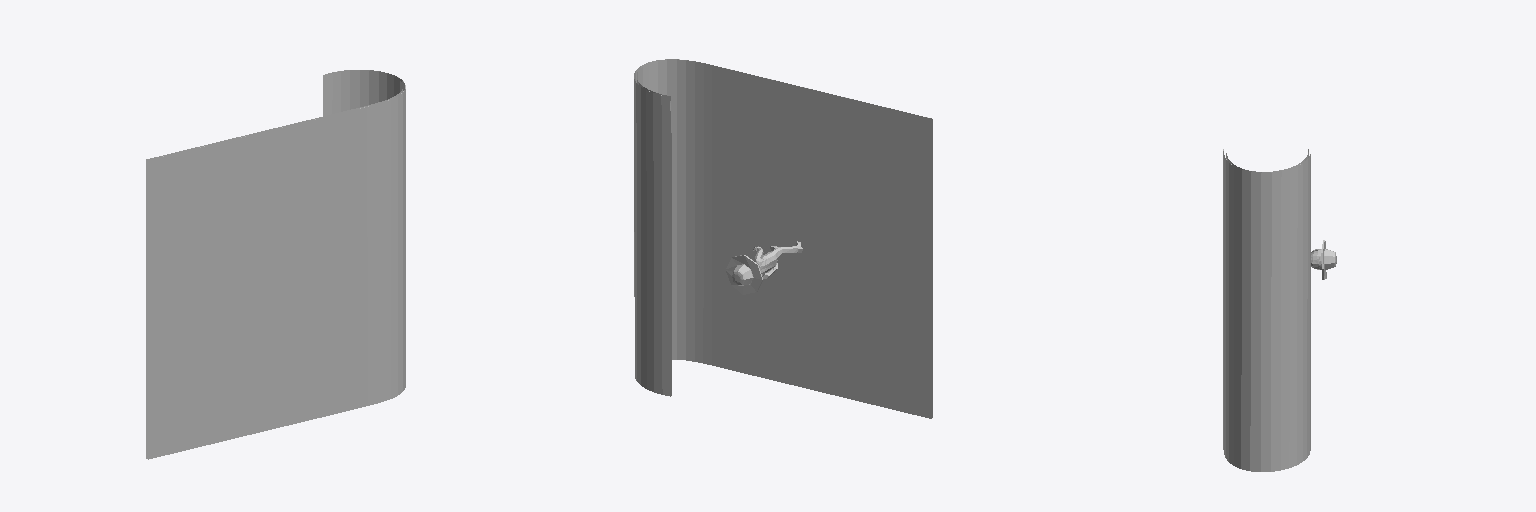
Rendered from start_file2_000061.obj.
3 views of the same model, side by side, from view 1: azimuth 30°, elevation 25°; view 2: azimuth 150°, elevation 25°; view 3: azimuth 270°, elevation 25° (orthographic).
Parts seen in each view (by area): view 1: Cube_Cube.001; view 2: Cube_Cube.001, Character_Cube; view 3: Cube_Cube.001, Character_Cube.
Part boxes in pixels (left/top/right/bottom): Cube_Cube.001: left=146, top=70, right=405, bottom=459; Cube_Cube.001: left=634, top=59, right=932, bottom=418; Character_Cube: left=726, top=241, right=802, bottom=294; Cube_Cube.001: left=1223, top=149, right=1310, bottom=471; Character_Cube: left=1311, top=240, right=1336, bottom=279.
Bounding box in the file's own units: 1.46 × 1.52 × 0.5239.